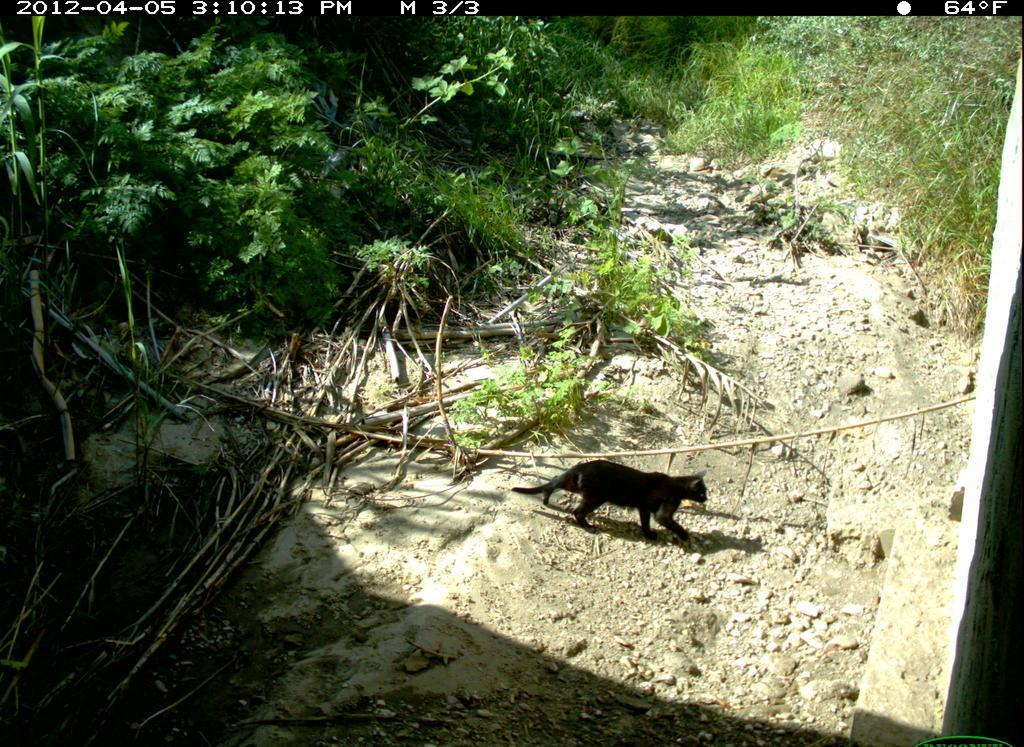cat: (510, 457, 713, 555)
